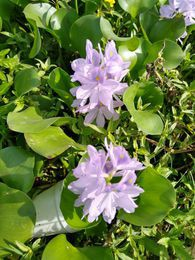water_hyacinth: (0, 1, 176, 259)
